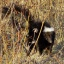skunk: (28, 18, 54, 53)
